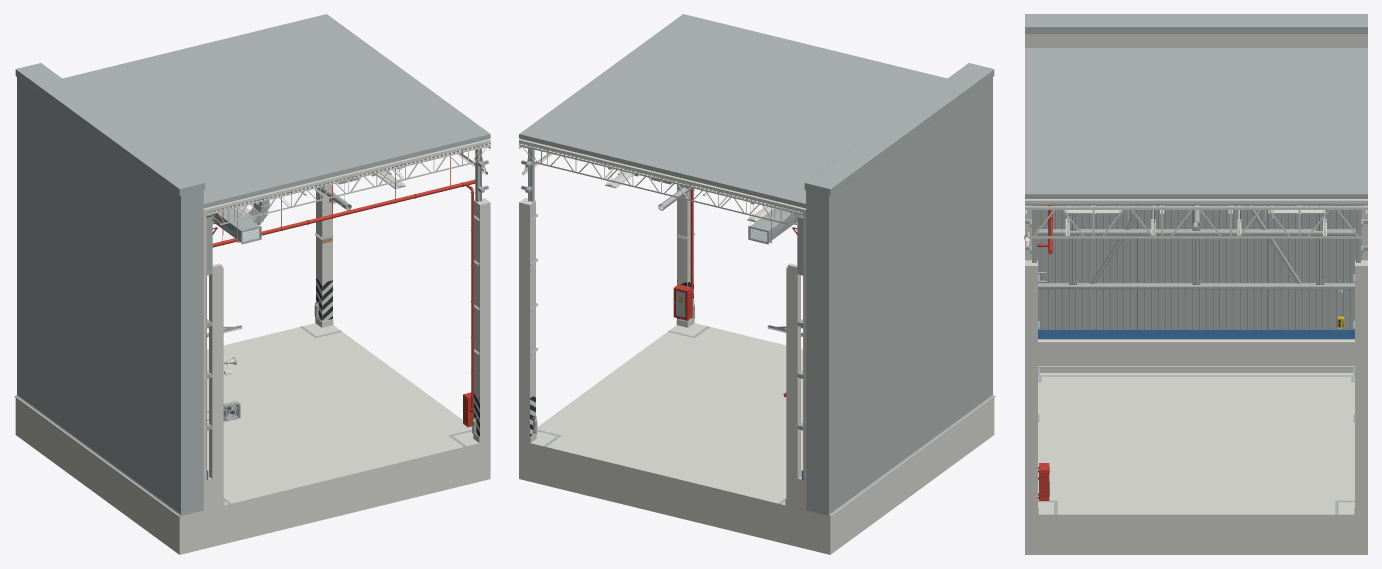
File: warehouse_h10m_straight_a04.glb
The picture shows the model from 3 angles, left to right: view 1: azimuth 30°, elevation 25°; view 2: azimuth 150°, elevation 25°; view 3: azimuth 270°, elevation 25°; orthographic projection. The views are drawn at different scales.
Bounding box in the file's own units: 11 × 12.3 × 10.03.
